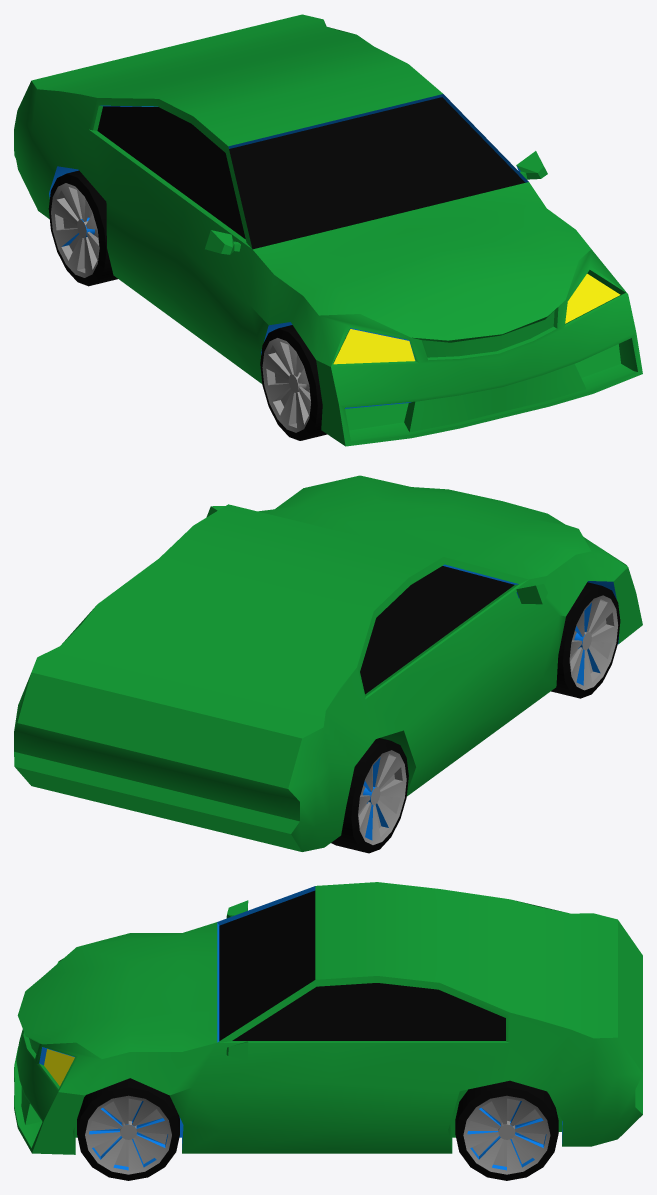
Rendered from Car2.fbx.
The picture shows the model from 3 angles, top to bottom: view 1: azimuth 30°, elevation 25°; view 2: azimuth 150°, elevation 25°; view 3: azimuth 270°, elevation 25°; orthographic projection. The views are drawn at different scales.
Visible parts, largest first — view 1: Cube.009; view 2: Cube.009; view 3: Cube.009.
Boxes of the visible parts, x1,y1,x2,y2 form: Cube.009: [14, 14, 642, 446]; Cube.009: [14, 475, 642, 853]; Cube.009: [14, 882, 642, 1180].
Size of the model in its own units: 230 by 135 by 414.
